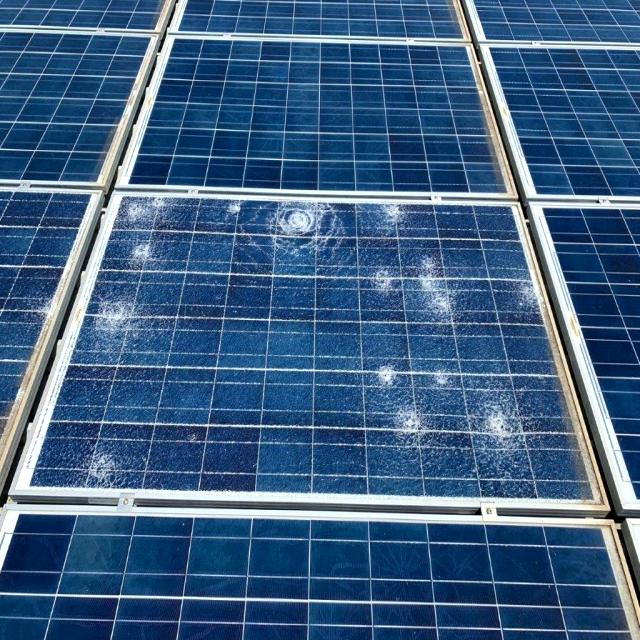hotspot: (366, 258, 462, 344), (60, 424, 128, 510), (477, 392, 533, 492), (118, 193, 186, 271), (267, 207, 355, 259), (78, 282, 132, 361), (368, 353, 469, 388), (366, 207, 438, 249), (23, 261, 65, 330), (386, 403, 438, 448), (511, 271, 554, 324), (214, 189, 252, 232)
